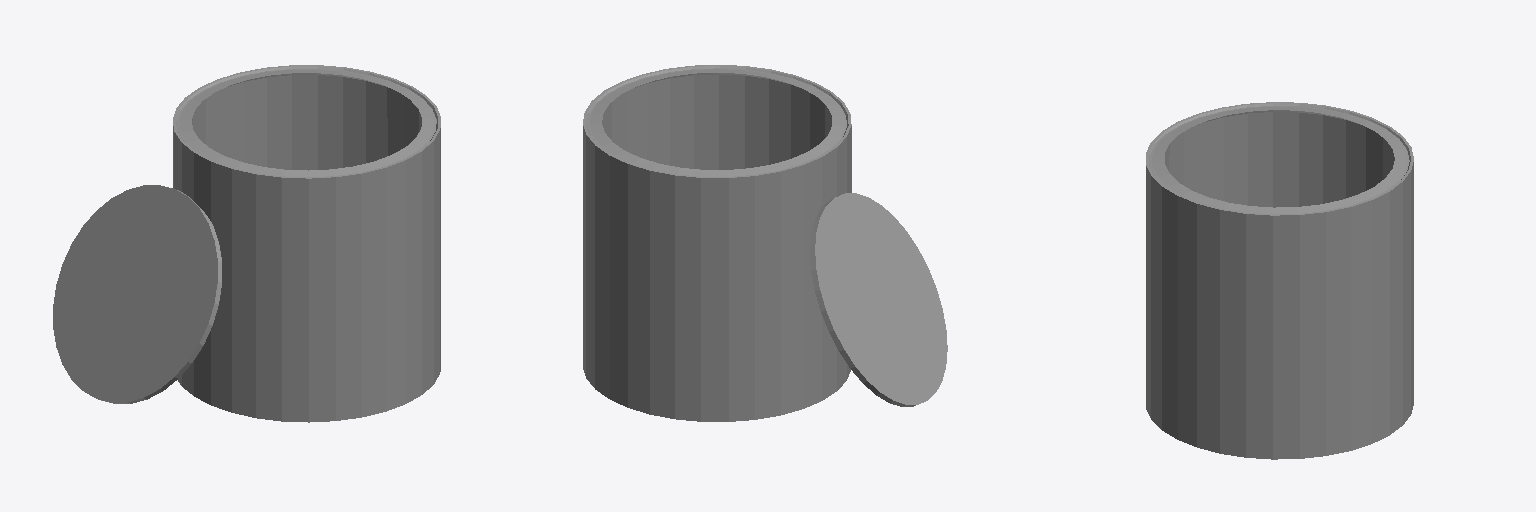
Rendered from Paint_Bucket-2Mat.obj.
The picture shows the model from 3 angles: view 1: azimuth 30°, elevation 25°; view 2: azimuth 150°, elevation 25°; view 3: azimuth 270°, elevation 25°; orthographic projection.
Parts seen in each view (by area): view 1: Circle_Circle.001; view 2: Circle_Circle.001; view 3: Circle_Circle.001.
Boxes of the visible parts, <box> form: Circle_Circle.001: <box>53,65,440,422</box>; Circle_Circle.001: <box>583,65,947,421</box>; Circle_Circle.001: <box>1146,102,1413,459</box>.
Bounding box in the file's own units: 2.87 × 2 × 1.99.